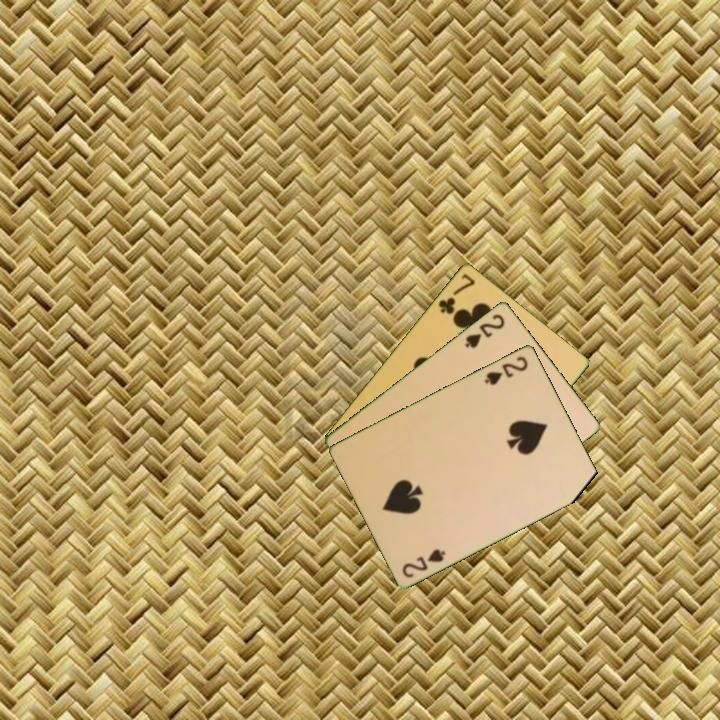2s: (461, 310, 508, 351), (481, 352, 531, 388), (399, 545, 449, 580)
7c: (435, 269, 478, 317)
